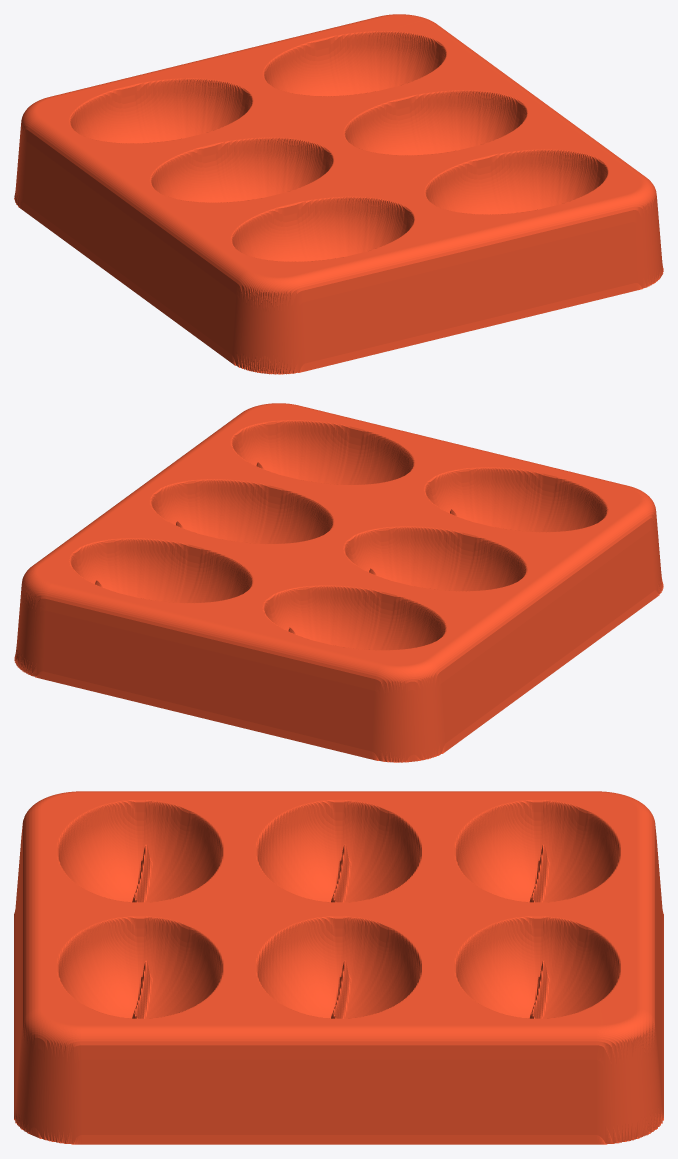
Rendered from mold.glb.
3 renders of one model, top to bottom at view 1: azimuth 30°, elevation 25°; view 2: azimuth 150°, elevation 25°; view 3: azimuth 270°, elevation 25°, orthographic. The views are drawn at different scales.
Parts seen in each view (by area): view 1: geometry_0; view 2: geometry_0; view 3: geometry_0.
Part boxes in pixels (<box>): geometry_0: <box>14,14,663,374</box>; geometry_0: <box>14,403,663,762</box>; geometry_0: <box>14,791,663,1144</box>.
Size of the model in its own units: 0.0808 by 0.0159 by 0.087.
